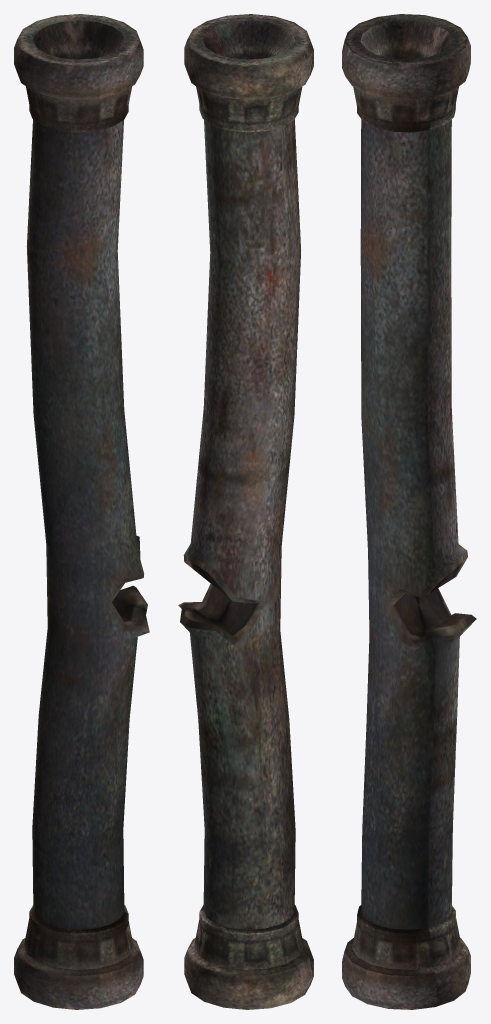
Rendered from pipe_large_long_pplant_broken.dae.
The picture shows the model from 3 angles, left to right: view 1: azimuth 30°, elevation 25°; view 2: azimuth 210°, elevation 25°; view 3: azimuth 330°, elevation 25°; orthographic projection.
Parts seen in each view (by area): view 1: pipe_large_long_pplant__2_; view 2: pipe_large_long_pplant__2_; view 3: pipe_large_long_pplant__2_.
Part boxes in pixels (box(x1,y1,x2,y2)): pipe_large_long_pplant__2_: box(14, 14, 149, 1009); pipe_large_long_pplant__2_: box(178, 14, 313, 1009); pipe_large_long_pplant__2_: box(342, 14, 476, 1009).
Size of the model in its own units: 0.5292 by 4 by 0.4907.
